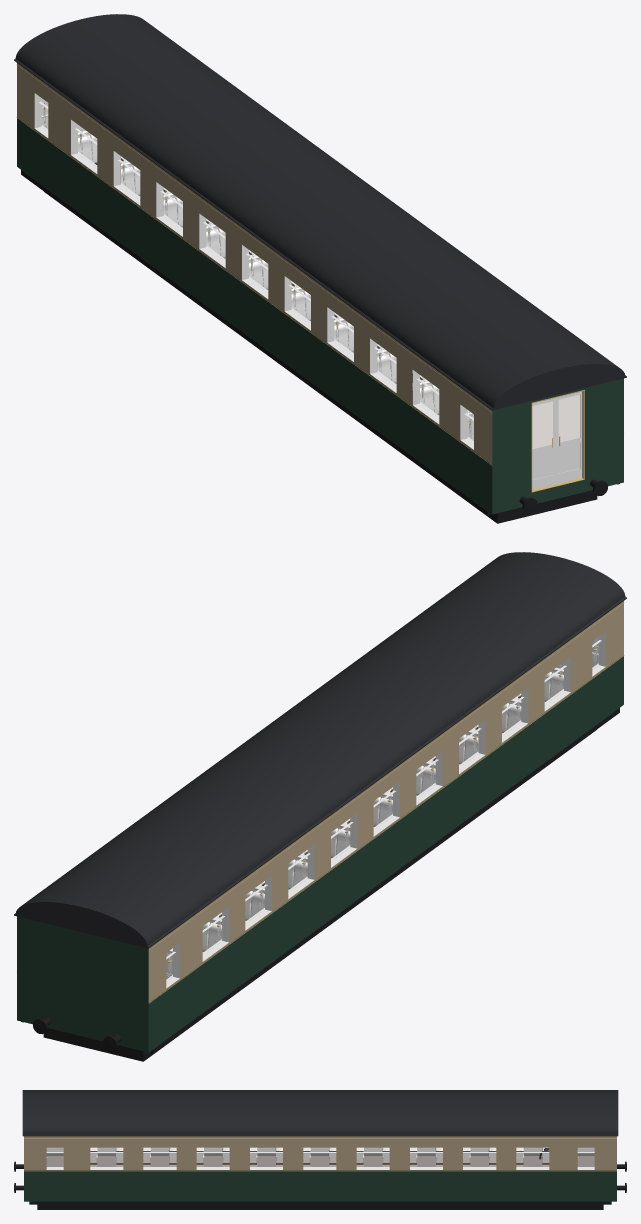
The model's file is train_carriage.glb.
3 views of the same model, one above another, from view 1: azimuth 30°, elevation 25°; view 2: azimuth 150°, elevation 25°; view 3: azimuth 270°, elevation 25° (orthographic). The views are drawn at different scales.
Visible parts, largest first — view 1: exterior, interior, doorR, doorL; view 2: exterior, interior; view 3: exterior, interior.
Boxes of the visible parts, <box> form: exterior: <box>14,14,626,523</box>; interior: <box>34,93,583,492</box>; doorR: <box>556,391,581,483</box>; doorL: <box>532,398,555,489</box>; exterior: <box>14,552,626,1061</box>; interior: <box>166,631,605,988</box>; exterior: <box>14,1090,626,1209</box>; interior: <box>46,1147,594,1169</box>.
Bounding box in the file's own units: 3.65 × 4.15 × 23.01.
